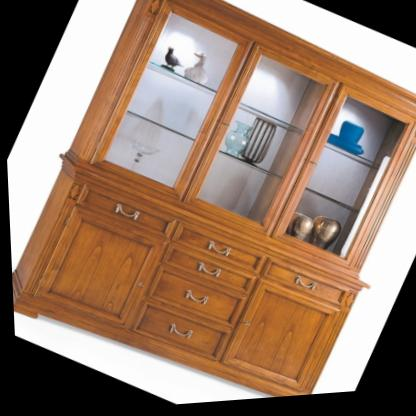Cupboard: (9, 0, 416, 401)
